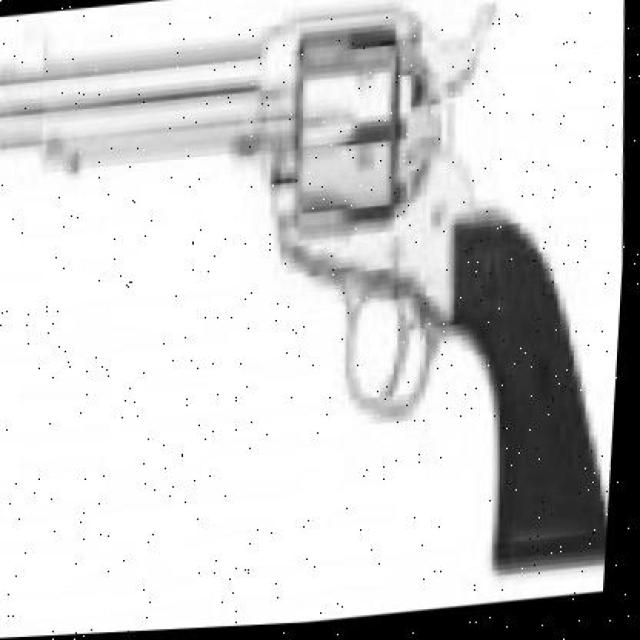weapon: (0, 3, 609, 573)
